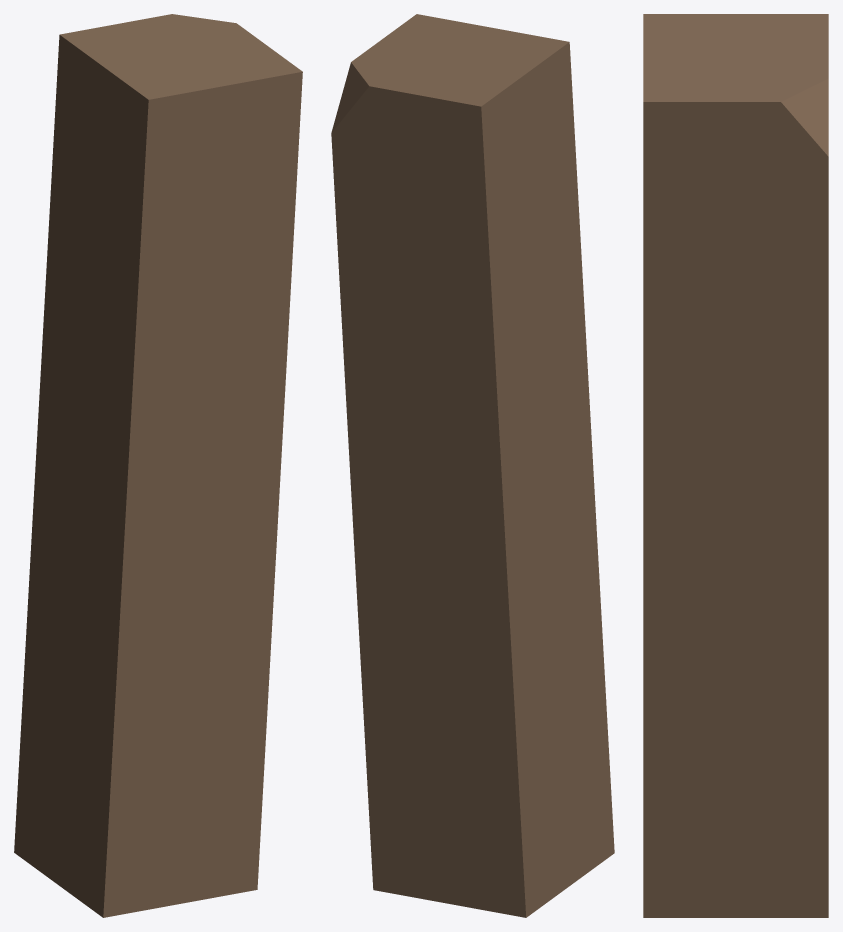
File: Hilly_Prop_Fence_Post_1.obj
The picture shows the model from 3 angles, left to right: view 1: azimuth 30°, elevation 25°; view 2: azimuth 150°, elevation 25°; view 3: azimuth 270°, elevation 25°; orthographic projection. The views are drawn at different scales.
Visible parts, largest first — view 1: object1; view 2: object1; view 3: object1.
Part boxes in pixels (x1,y1,x2,y2): object1: (14, 14, 302, 917); object1: (331, 14, 614, 917); object1: (643, 14, 828, 917).
Size of the model in its own units: 0.1938 by 0.7575 by 0.15.
